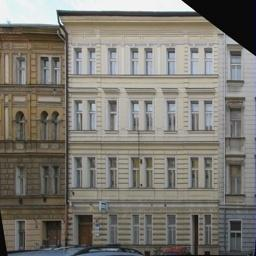building: (68, 0, 256, 256), (1, 0, 66, 254)
